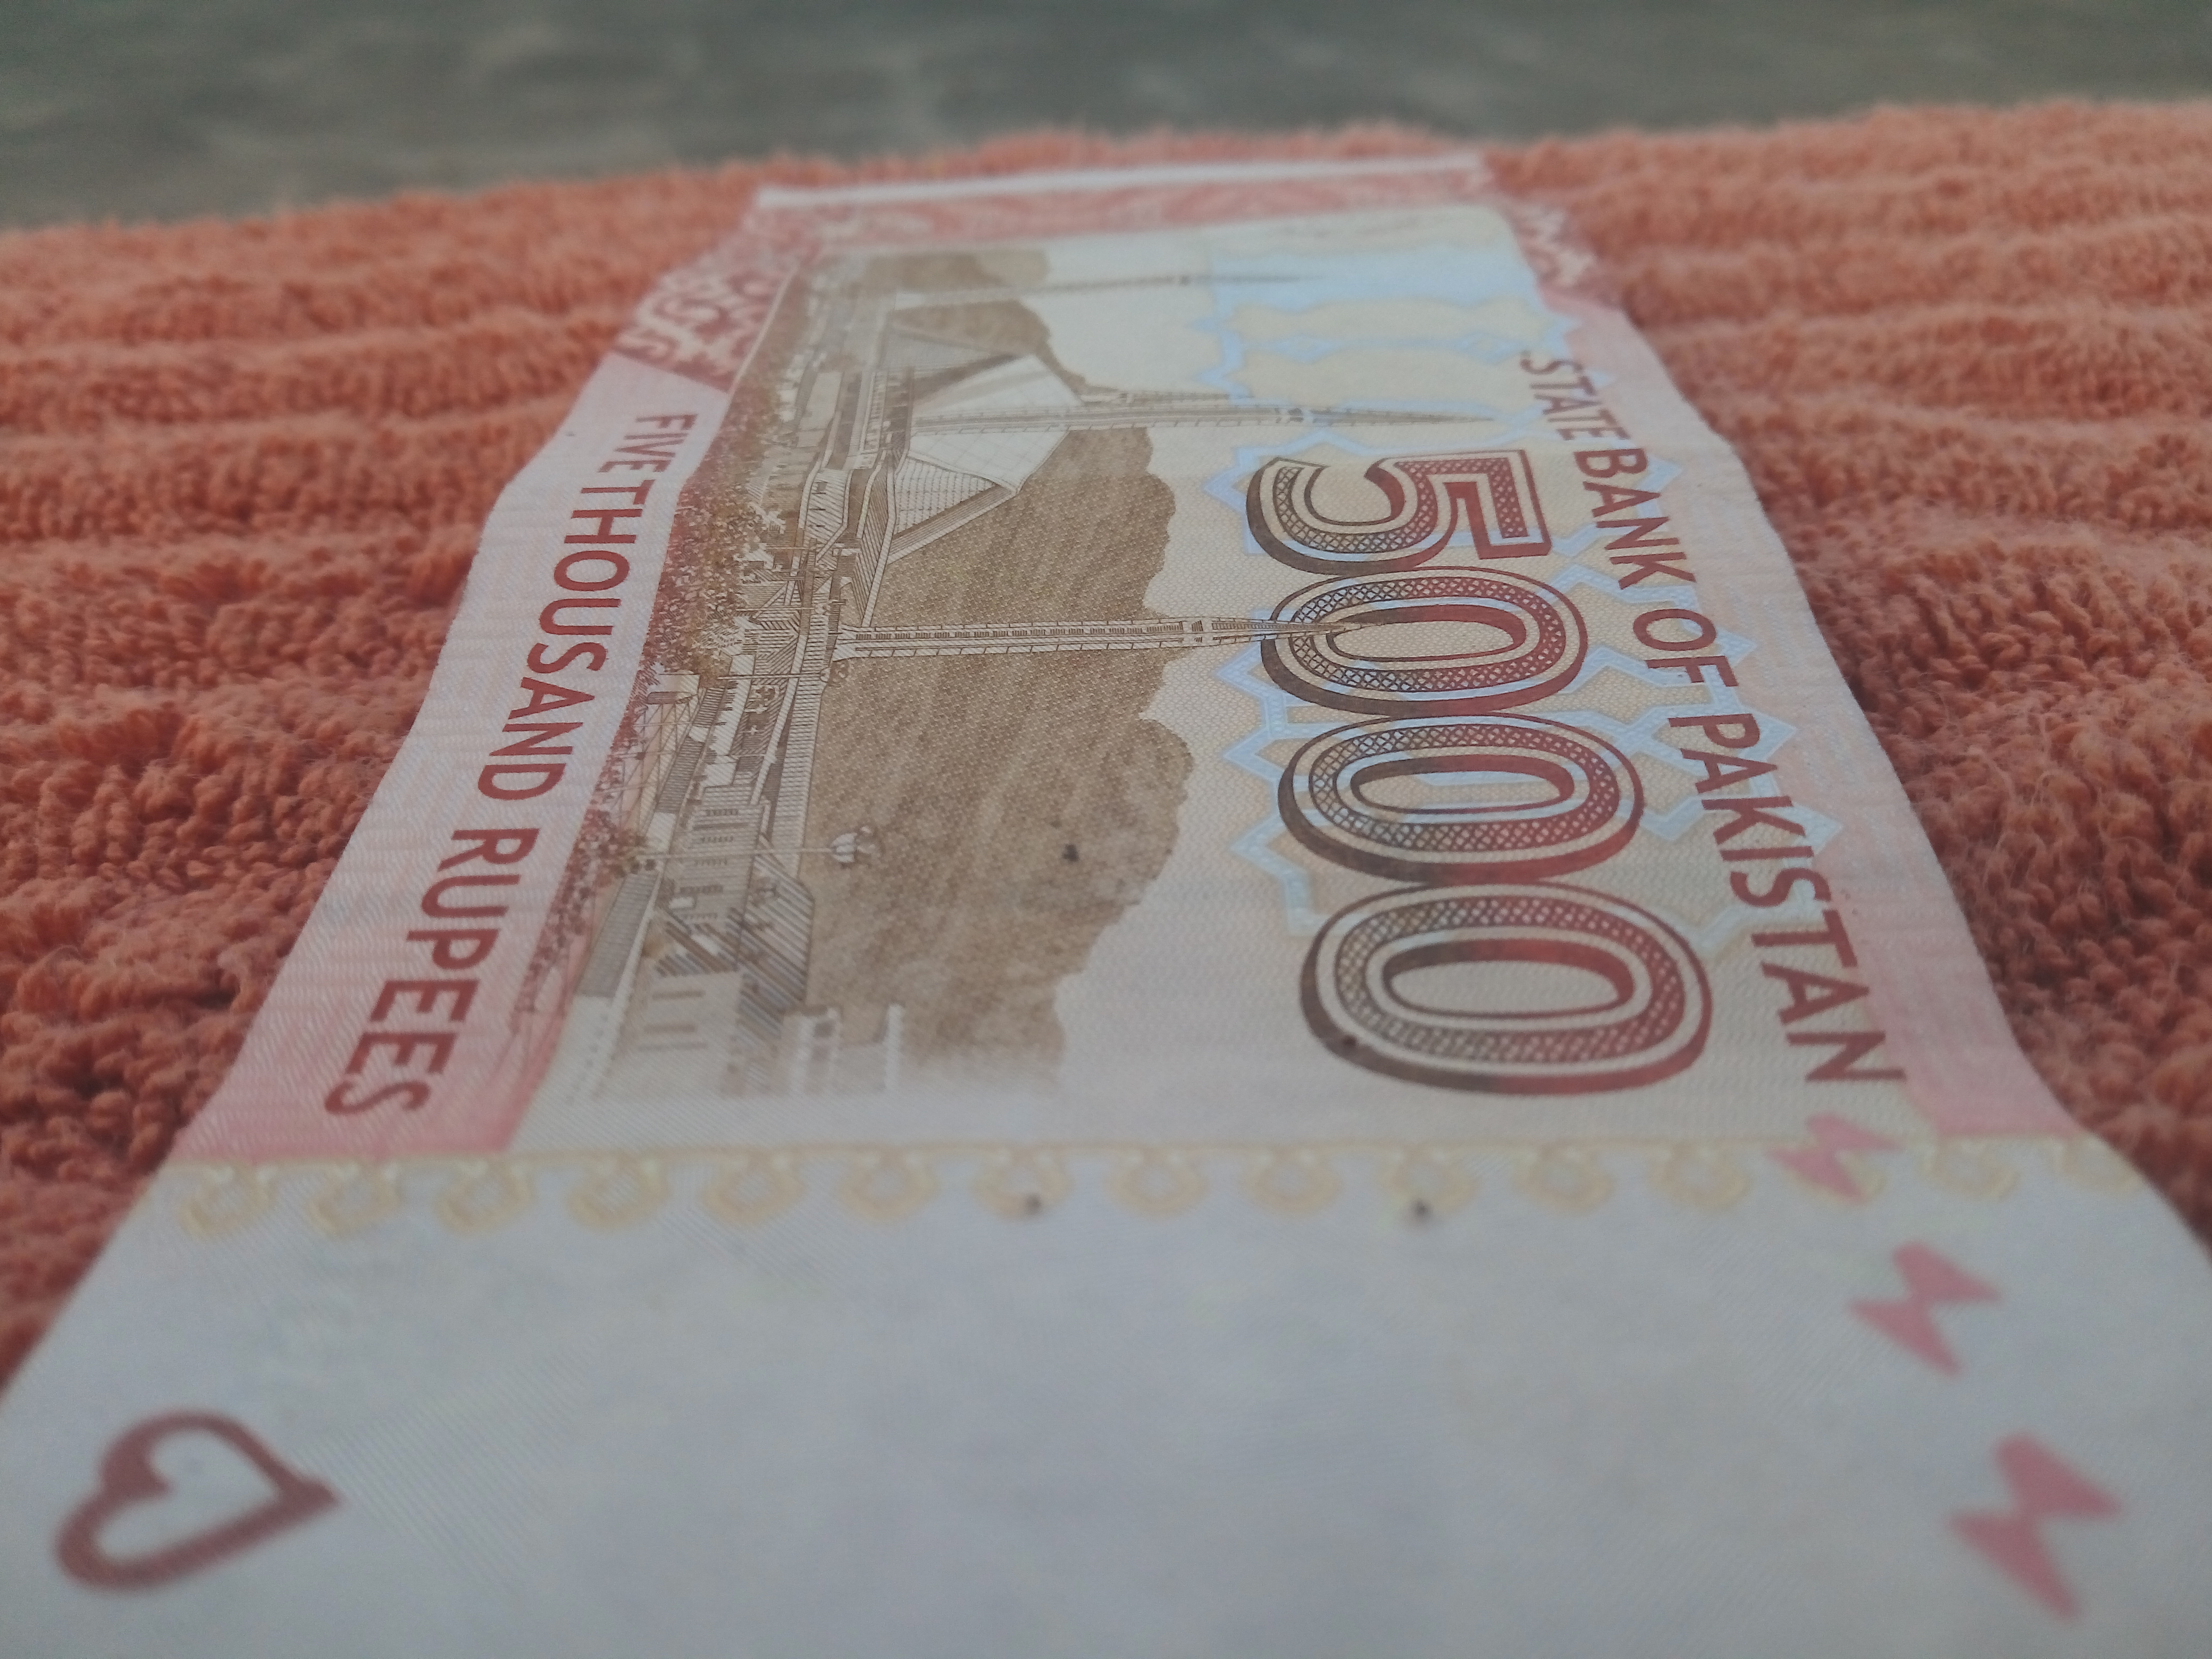5000 rupee: (9, 131, 2203, 1631)
